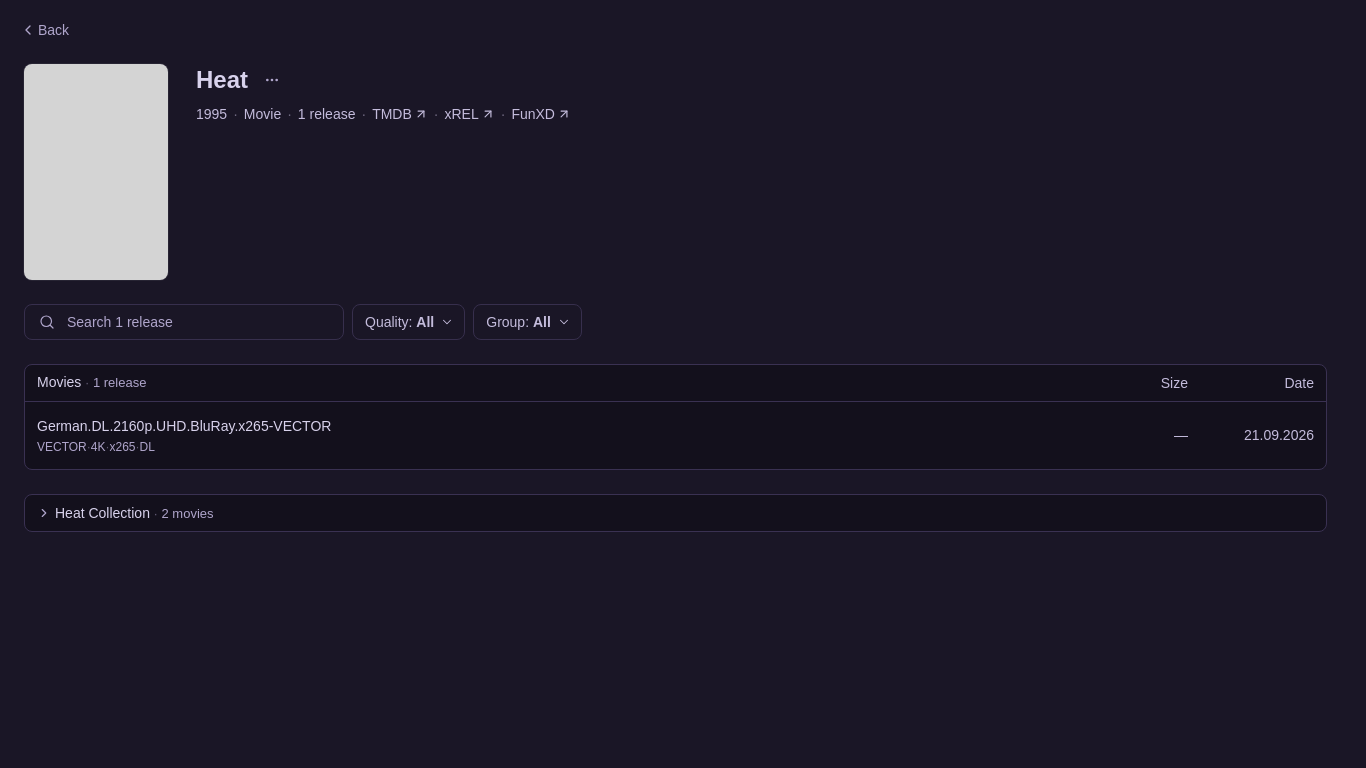
Test: TitleView › shows a movie's collection under its releases, folded, its posters once it's opened
Expected: the text "Heat 2" is not shown
Click the button "Heat Collection · 2 movies" at (125, 513), box [37,503,214,523]
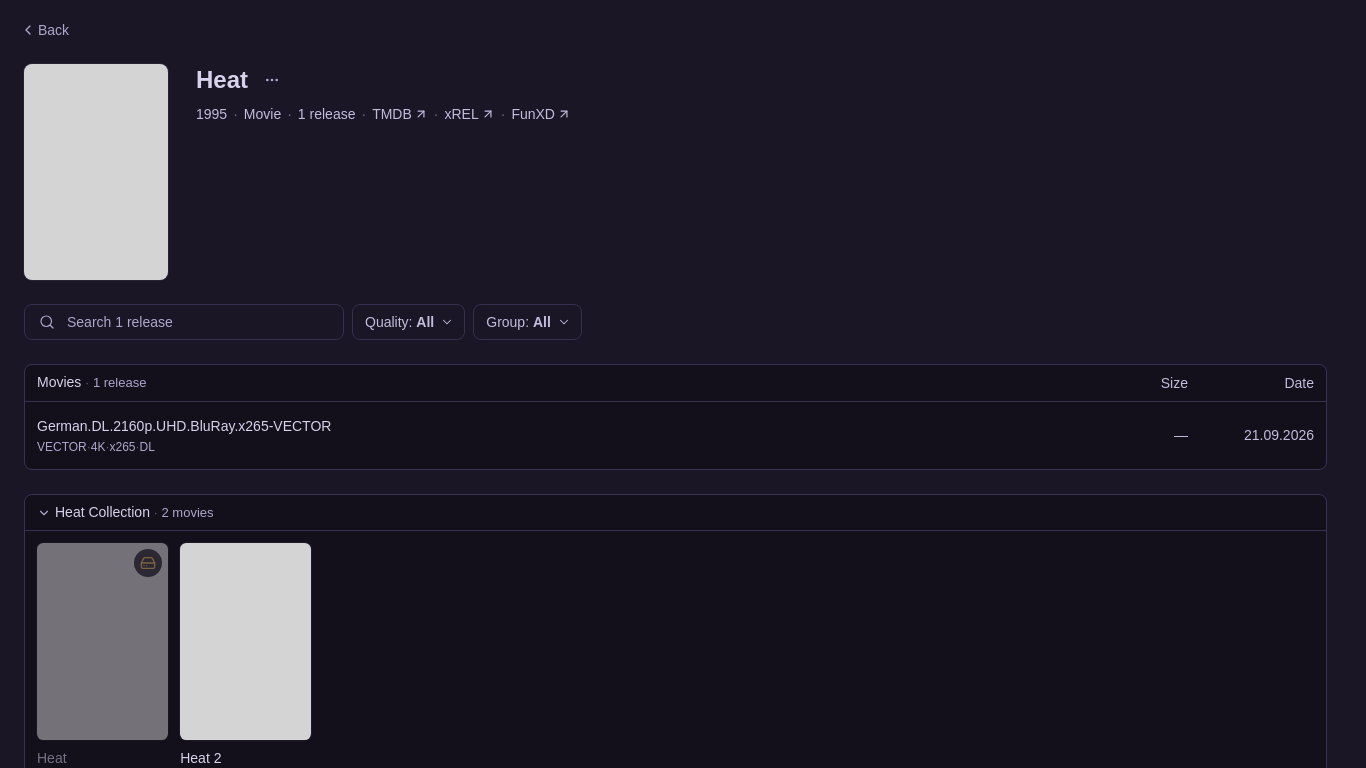
Expected: the picture named "In library" is shown, [134,549,162,577]
